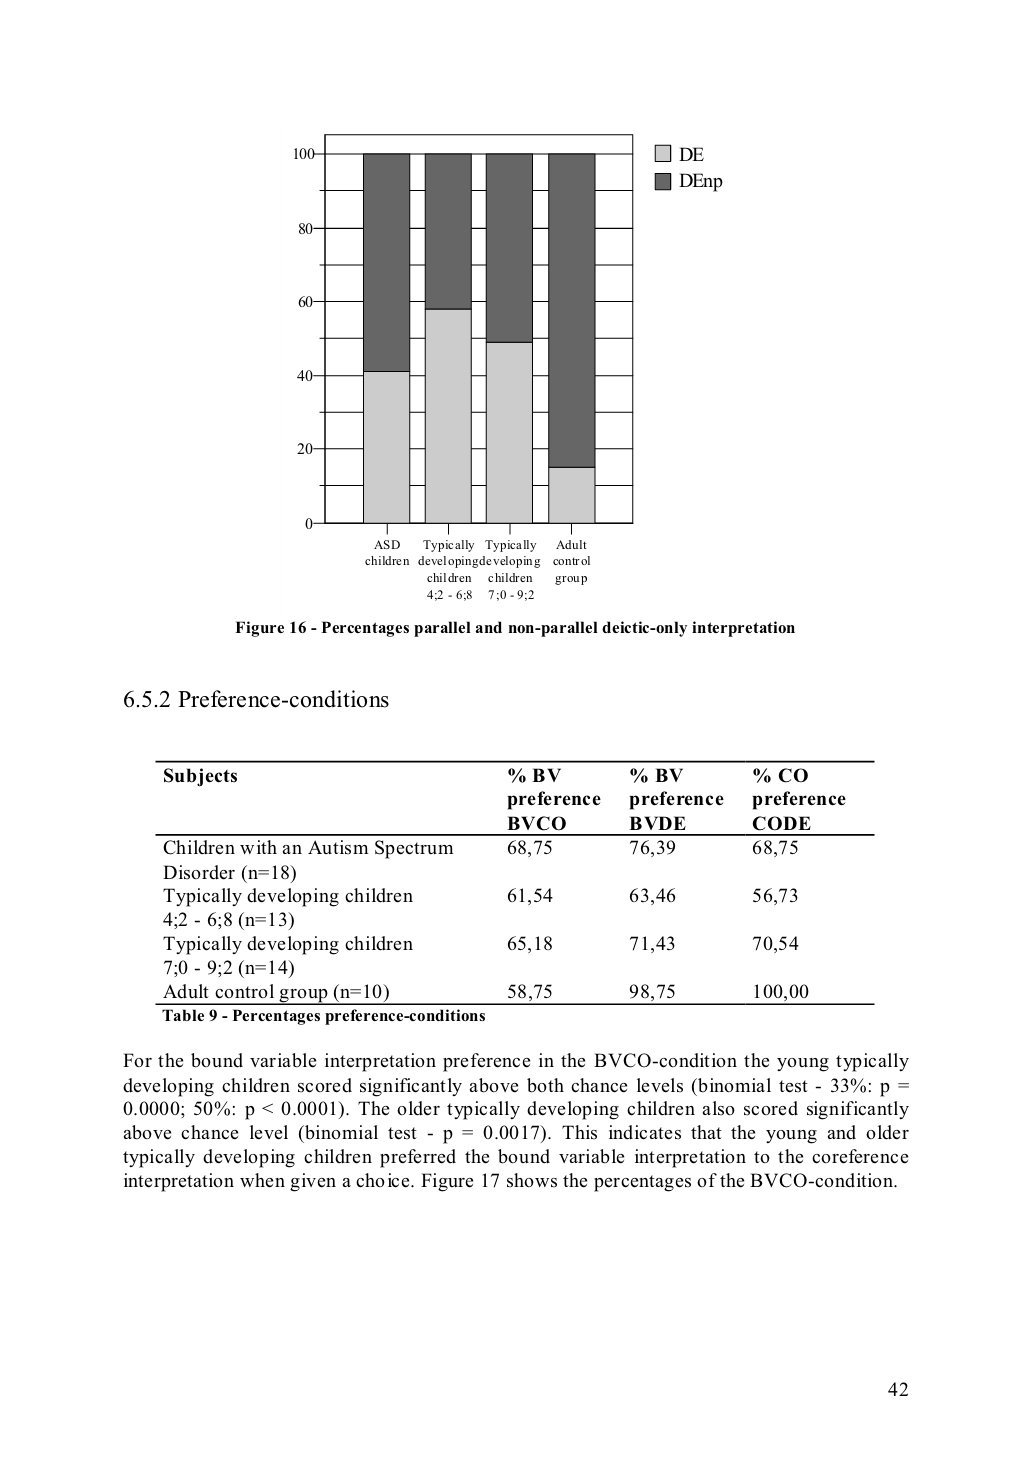Table: (155, 760, 874, 1004)
figure: (293, 134, 633, 600)
